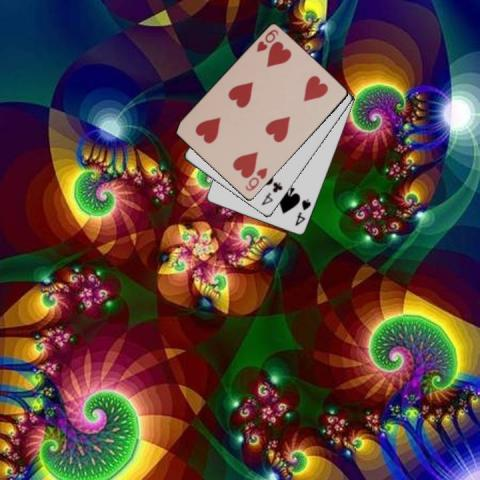4c: (258, 180, 284, 208)
4s: (292, 196, 313, 228)
6h: (242, 164, 269, 192), (253, 27, 280, 53)
